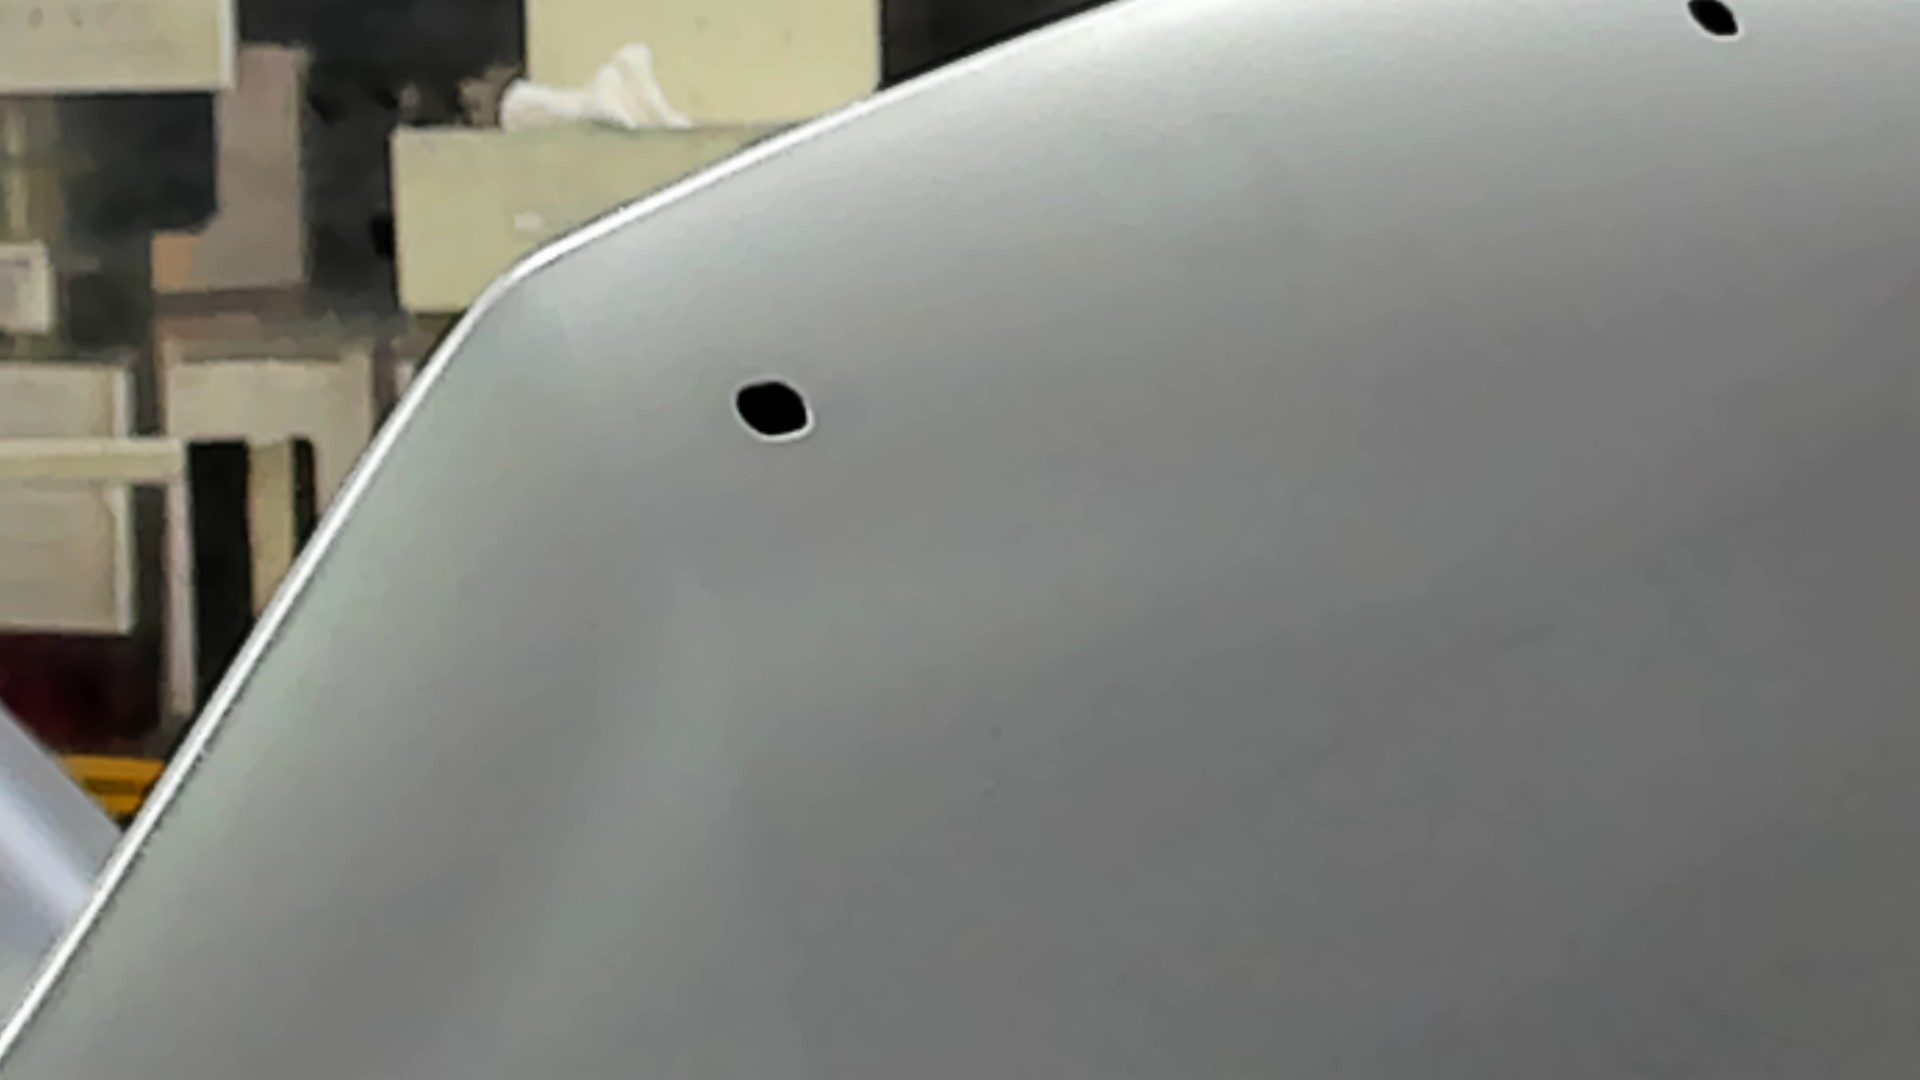amorfo: (731, 376, 824, 444), (1675, 1, 1747, 41)
